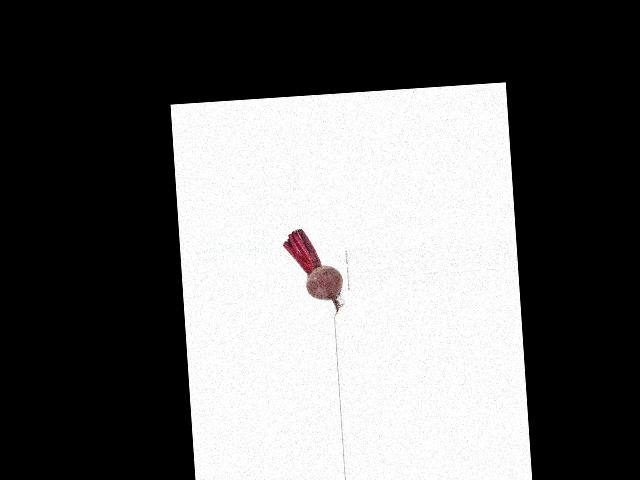beet: (282, 226, 345, 318)
